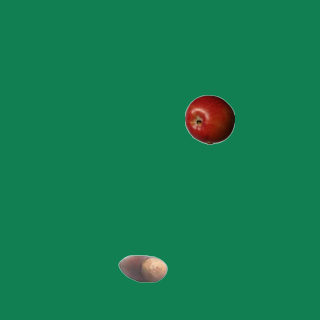Apple Braeburn: (184, 94, 234, 144)
Hazelnut: (117, 243, 167, 293)
